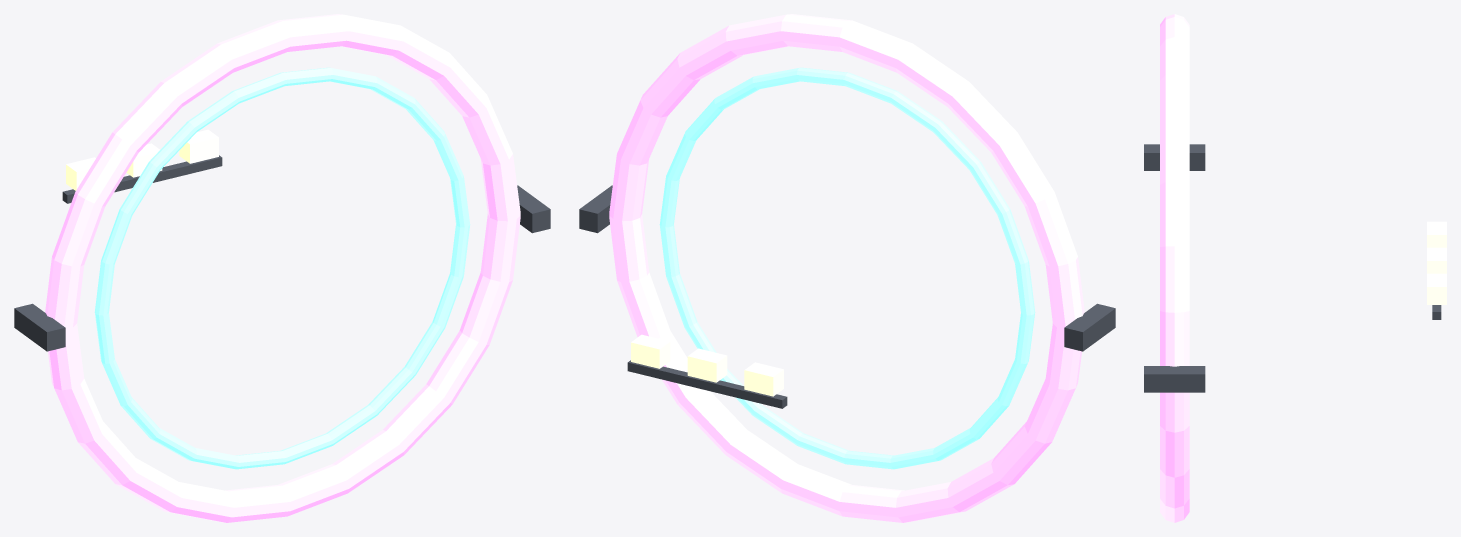
The model's file is interact_acro_ring.glb.
The picture shows the model from 3 angles, left to right: view 1: azimuth 30°, elevation 25°; view 2: azimuth 150°, elevation 25°; view 3: azimuth 270°, elevation 25°; orthographic projection. The views are drawn at different scales.
Visible parts, largest first — view 1: interact_acro_ring; view 2: interact_acro_ring; view 3: interact_acro_ring.
Part boxes in pixels (x1=…): interact_acro_ring: x1=14, y1=14, x2=550, y2=522; interact_acro_ring: x1=579, y1=14, x2=1115, y2=522; interact_acro_ring: x1=1144, y1=14, x2=1446, y2=522.
Size of the model in its own units: 4.88 by 4.58 by 2.72.
